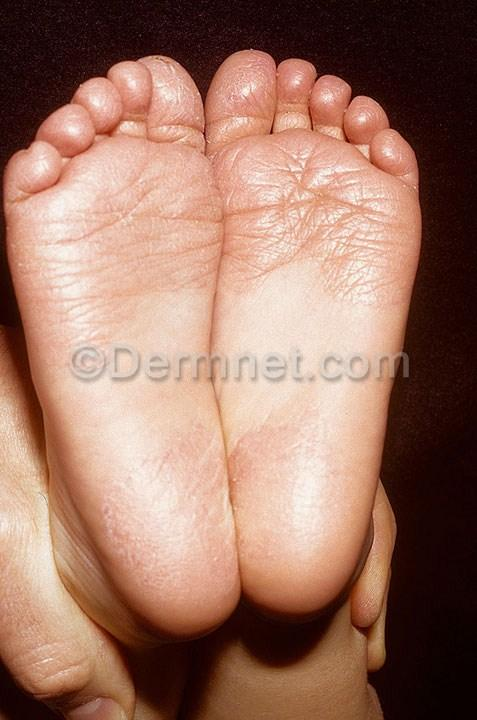Eczema: (29, 207, 114, 338), (315, 179, 418, 285), (124, 209, 233, 301), (234, 164, 309, 266), (62, 150, 138, 223), (144, 151, 217, 215), (157, 71, 204, 131), (370, 131, 415, 184), (84, 74, 127, 128), (213, 66, 260, 112), (113, 64, 154, 102), (345, 93, 384, 132), (274, 66, 310, 104), (14, 152, 45, 194), (49, 115, 84, 149), (314, 84, 347, 116)
